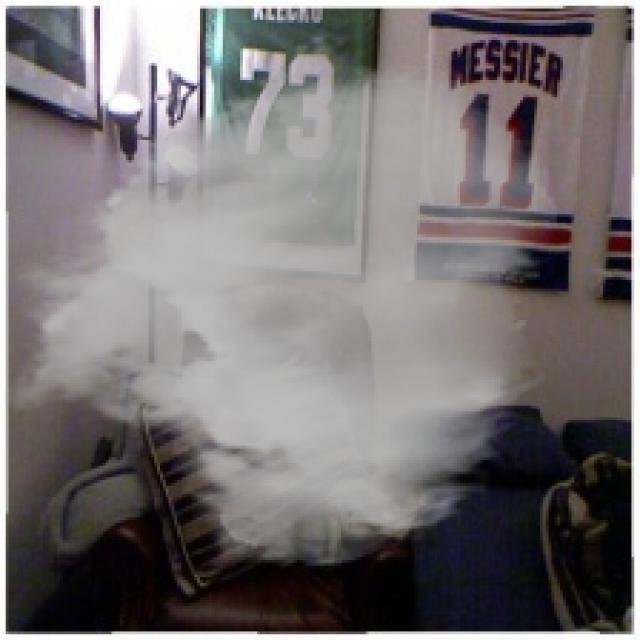Smoke: (0, 31, 563, 572)
